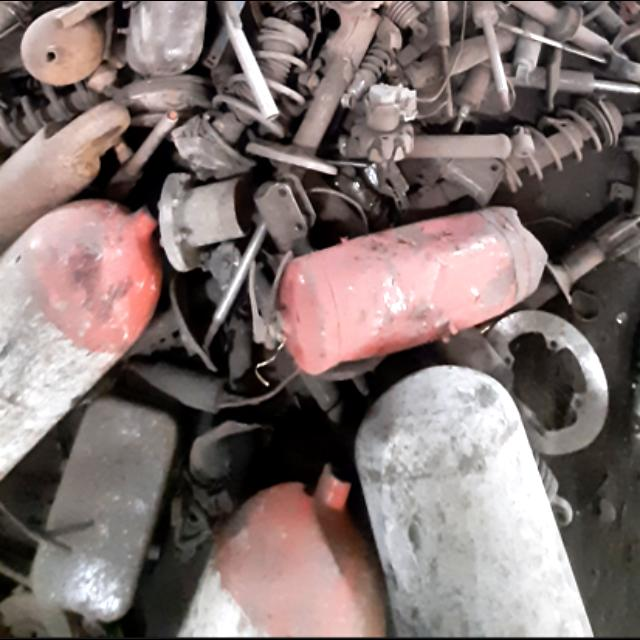Cylinders: (354, 363, 602, 637)
Shock Absorber: (461, 83, 638, 215)
